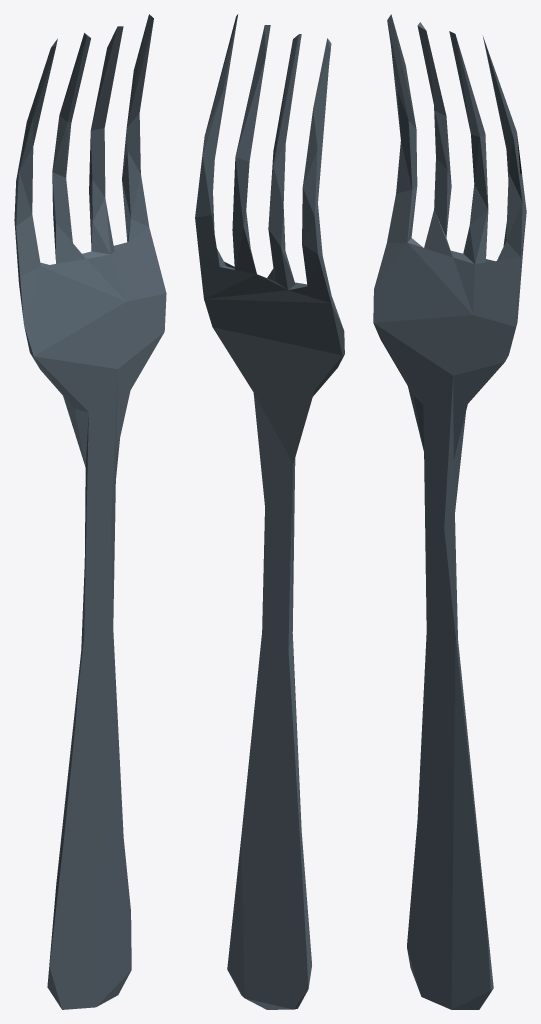
File: Fork03.fbx
3 renders of one model, left to right at view 1: azimuth 30°, elevation 25°; view 2: azimuth 150°, elevation 25°; view 3: azimuth 330°, elevation 25°, orthographic. The views are drawn at different scales.
Parts seen in each view (by area): view 1: Fork03LowPoly; view 2: Fork03LowPoly; view 3: Fork03LowPoly.
Part boxes in pixels (<box>): Fork03LowPoly: <box>14,14,166,1009</box>; Fork03LowPoly: <box>195,14,344,1009</box>; Fork03LowPoly: <box>373,14,526,1009</box>.
Bounding box in the file's own units: 2.97 × 19.85 × 1.05.
